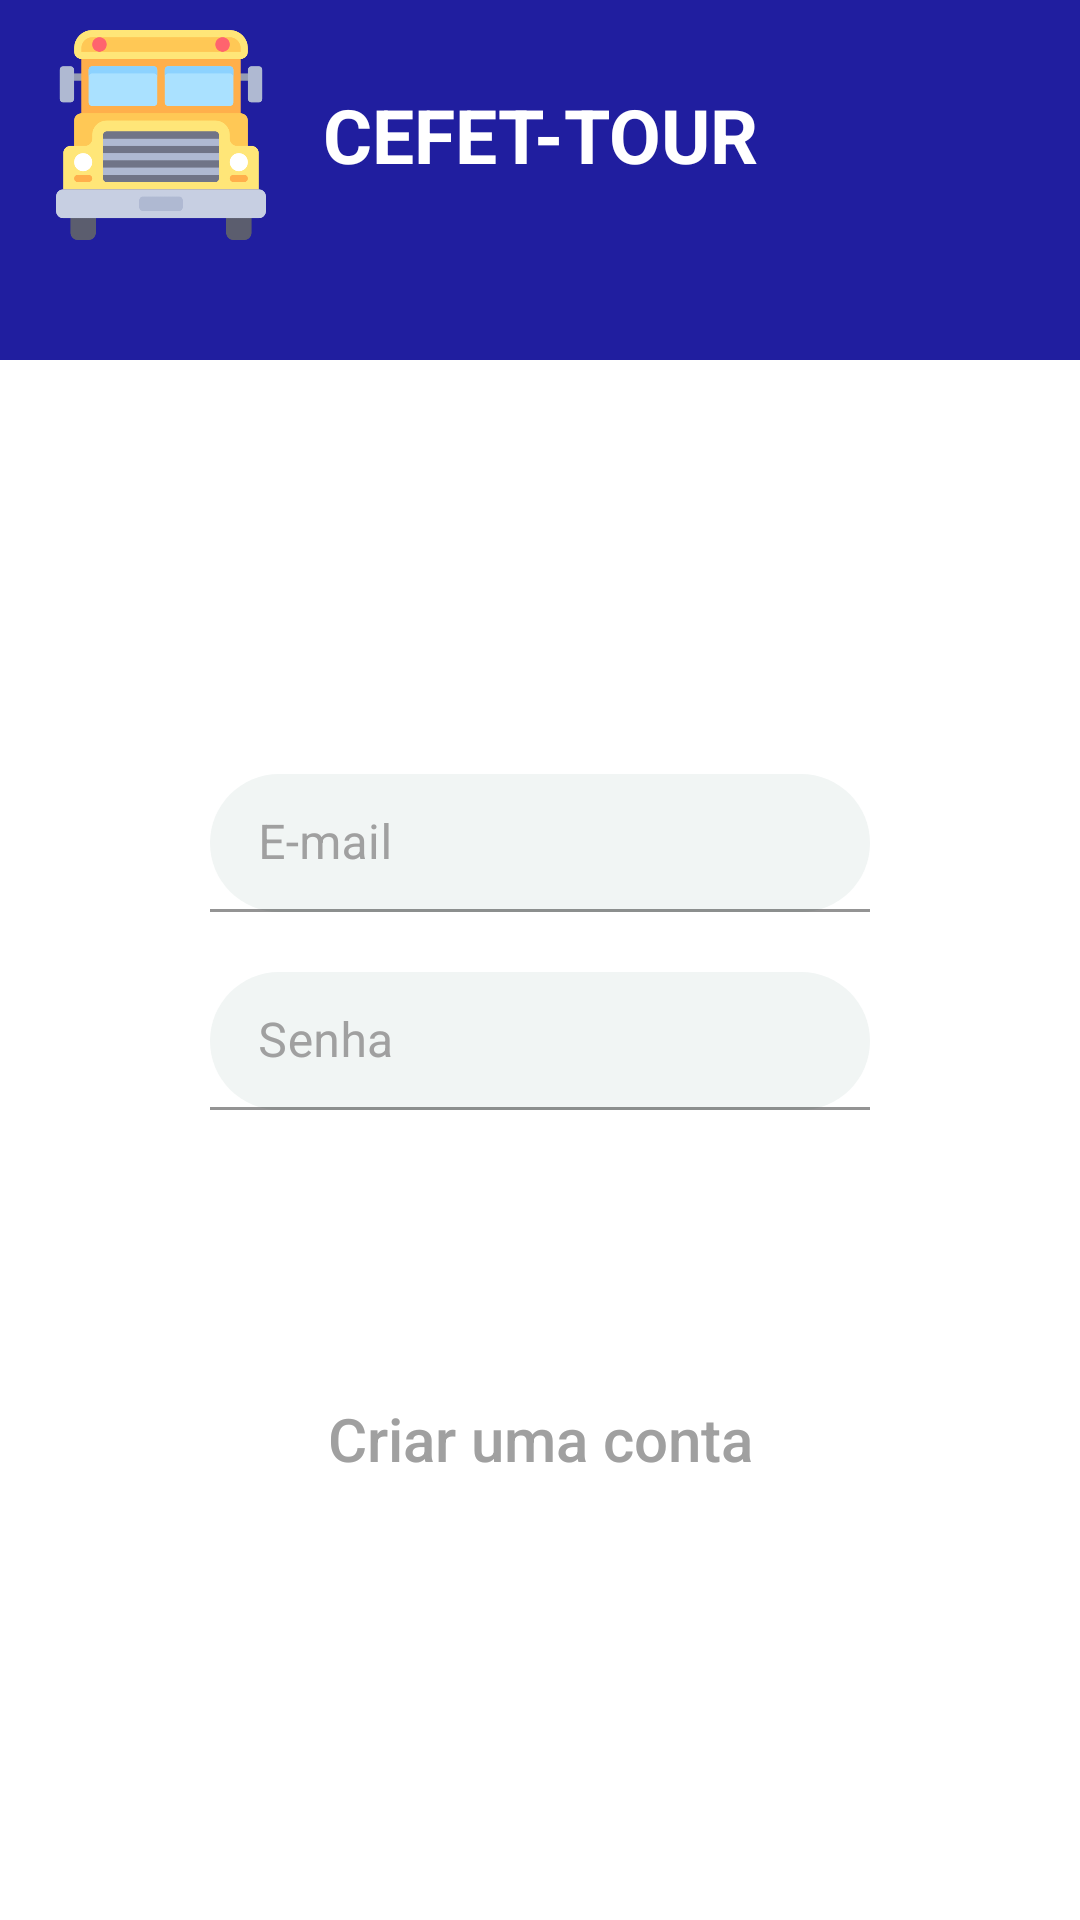

Point at icon controls on the screen. Image size 1080x1920, points as (x,y).
schoolbus: (161,135)
